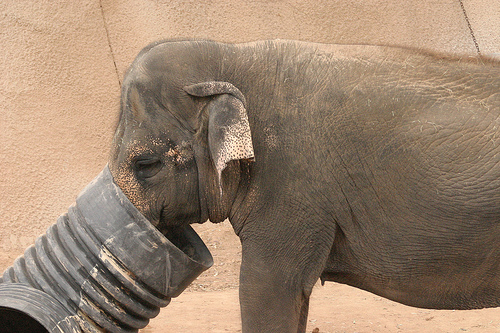elephant: (104, 28, 500, 330)
